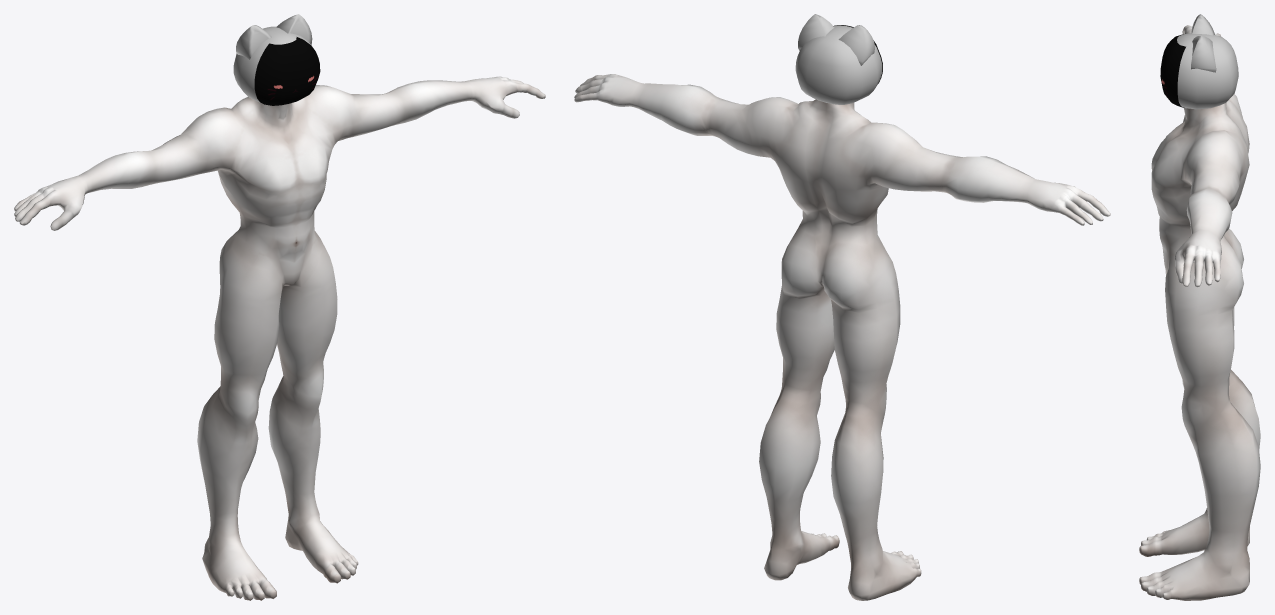
The model's file is cat.obj.
The picture shows the model from 3 angles, left to right: view 1: azimuth 30°, elevation 25°; view 2: azimuth 150°, elevation 25°; view 3: azimuth 270°, elevation 25°; orthographic projection.
Parts seen in each view (by area): view 1: Muscle_Body, object 3, Cat_Head; view 2: Muscle_Body, Cat_Head; view 3: Muscle_Body, Cat_Head, object 3.
Boxes of the visible parts, x1=… form: Muscle_Body: x1=14, y1=76, x2=545, y2=600; object 3: x1=254, y1=37, x2=320, y2=105; Cat_Head: x1=233, y1=14, x2=312, y2=102; Muscle_Body: x1=574, y1=74, x2=1110, y2=600; Cat_Head: x1=795, y1=14, x2=882, y2=104; Muscle_Body: x1=1139, y1=25, x2=1260, y2=600; Cat_Head: x1=1177, y1=14, x2=1238, y2=109; object 3: x1=1160, y1=34, x2=1185, y2=107.
Bounding box in the file's own units: 74.32 × 74.5 × 15.02.
